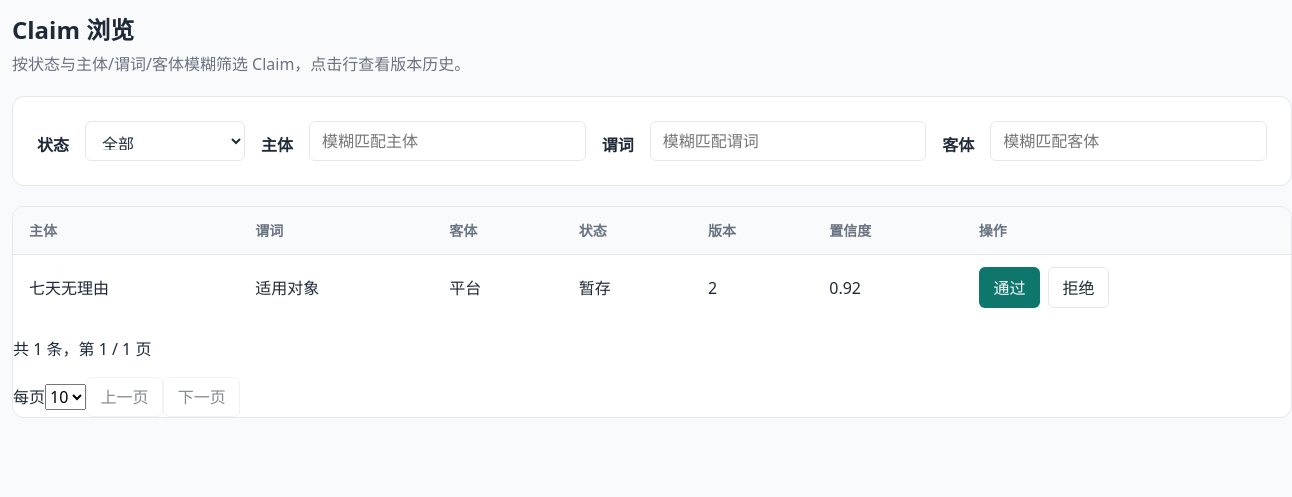
Test: ClaimsPage › approves staging claim after confirm and reloads list
This screenshot has width=1292, height=497.
Expected: the text "平台" is shown, left=433, top=254, right=563, bottom=321
What coordinates should you click on to do the following:
click the button "通过"
I would click on:
 (1009, 288)
Its box is left=979, top=267, right=1040, bottom=308.
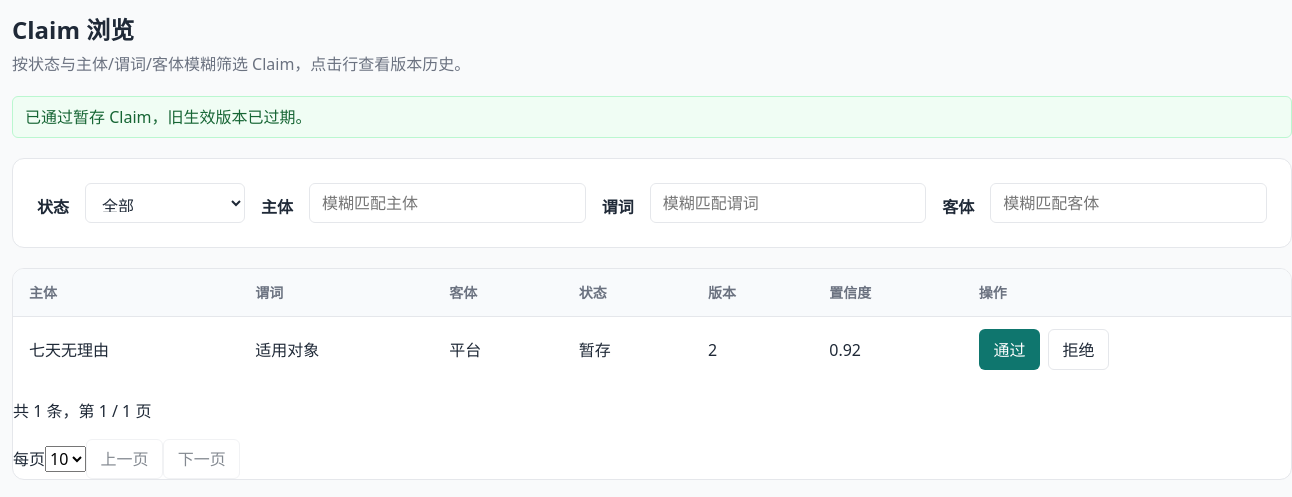
Result: the text "已通过暂存 Claim，旧生效版本已过期。" is shown at left=12, top=96, right=1291, bottom=138
